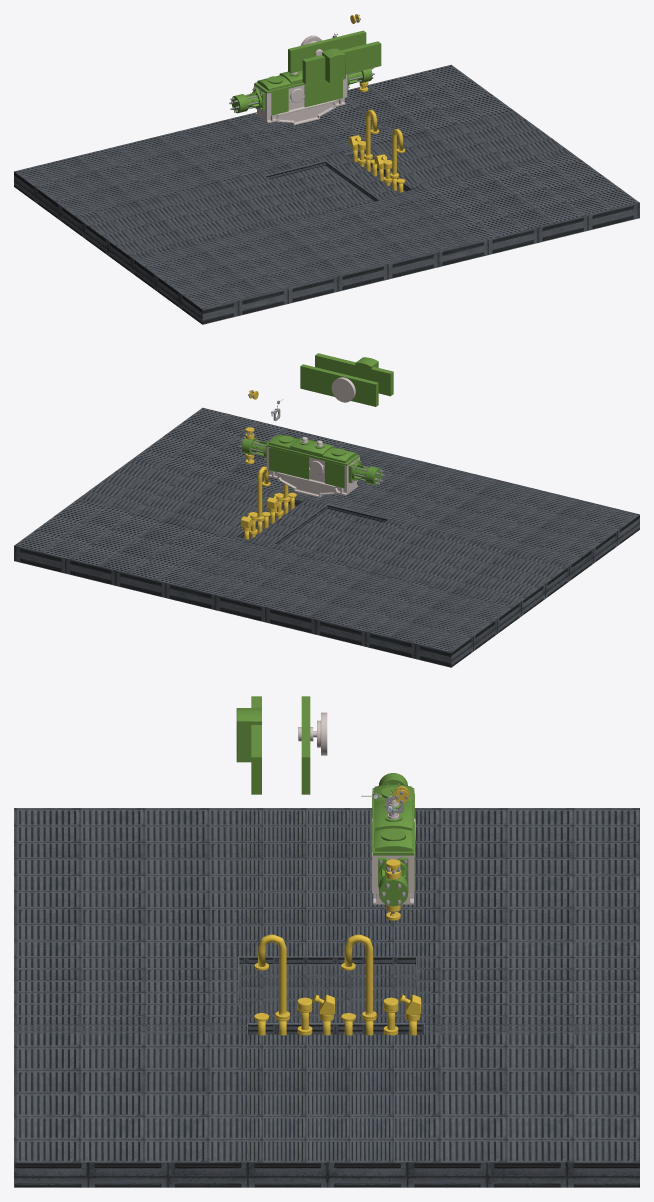
The model's file is hypercompresser_01.fbx.
3 views of the same model, one above another, from view 1: azimuth 30°, elevation 25°; view 2: azimuth 150°, elevation 25°; view 3: azimuth 270°, elevation 25° (orthographic). The views are drawn at different scales.
Visible parts, largest first — view 1: Cube.014, left.001, Cube.021, right.001, Cube.022, cover02.001; view 2: Cube.014, right.001, left.001, Cube.021, Cube.022, cover01.001, right_02.001, cover02.001; view 3: Cube.014, left.001, cover03.001, cover01.001, Circle.025, right.001, Circle.047.
Boxes of the visible parts, x1,y1,x2,y2 form: Cube.014: [14, 64, 639, 324]; left.001: [302, 41, 381, 84]; Cube.021: [271, 80, 342, 115]; right.001: [288, 30, 366, 73]; Cube.022: [256, 95, 345, 125]; cover02.001: [254, 75, 291, 93]; Cube.014: [14, 407, 639, 667]; right.001: [300, 364, 378, 406]; left.001: [315, 353, 393, 396]; Cube.021: [269, 447, 344, 488]; Cube.022: [268, 467, 357, 497]; cover01.001: [289, 437, 333, 460]; right_02.001: [331, 377, 355, 402]; cover02.001: [322, 447, 359, 465]; Cube.014: [14, 808, 639, 1187]; left.001: [236, 696, 261, 794]; cover03.001: [372, 828, 414, 855]; cover01.001: [372, 799, 414, 834]; Circle.025: [344, 934, 373, 1015]; right.001: [301, 696, 310, 794]; Circle.047: [258, 934, 286, 1015].
Size of the model in its own units: 23799 by 8920 by 17774.
